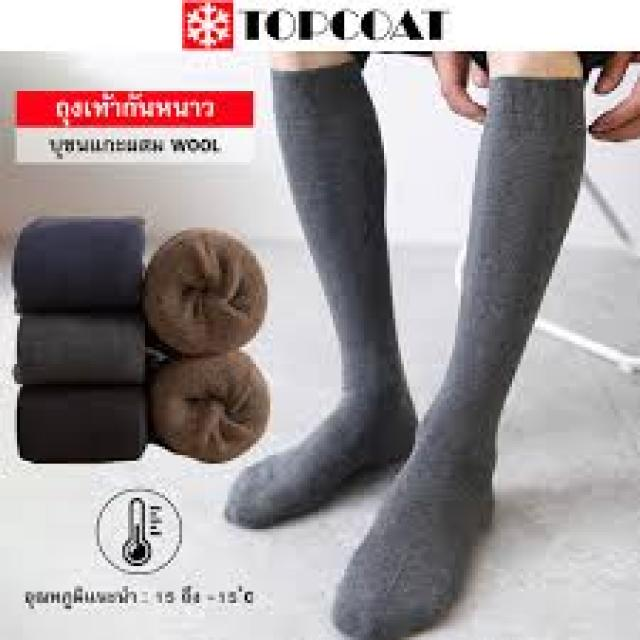sock: (330, 68, 586, 637)
